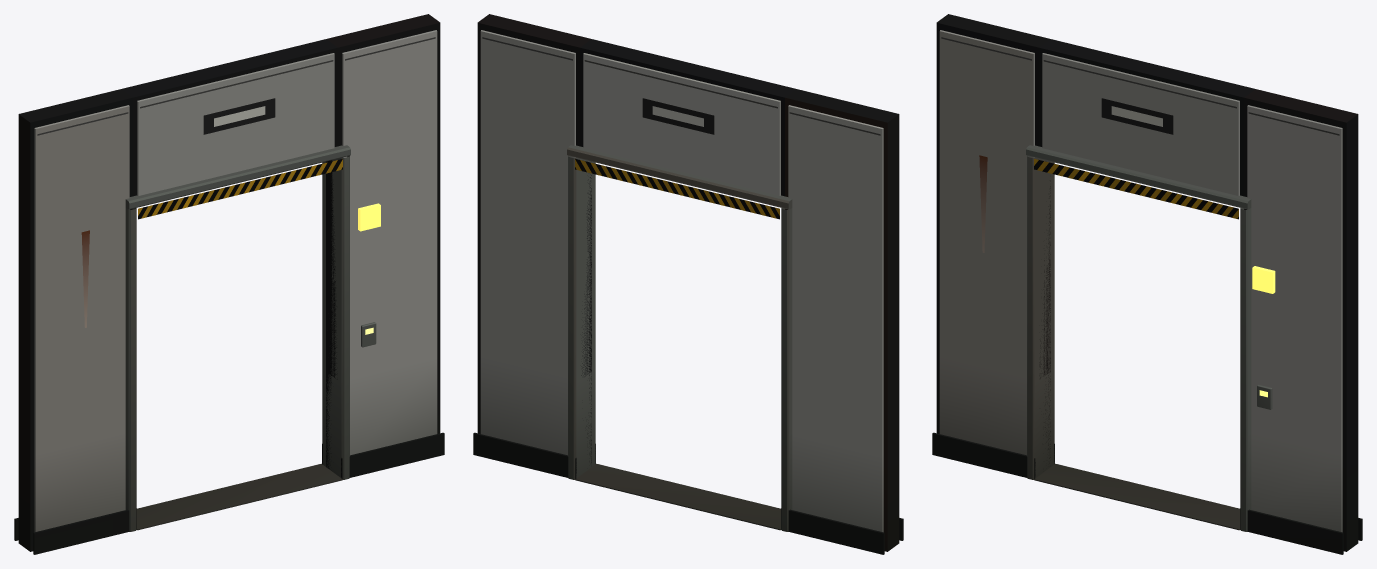
Rendered from kit_doorway.glb.
3 views of the same model, side by side, from view 1: azimuth 30°, elevation 25°; view 2: azimuth 150°, elevation 25°; view 3: azimuth 330°, elevation 25° (orthographic).
Visible parts, largest first — view 1: Mesh; view 2: Mesh; view 3: Mesh.
Part boxes in pixels (box(x1,y1,x2,y2)): Mesh: box(14, 14, 444, 554); Mesh: box(473, 14, 903, 554); Mesh: box(932, 14, 1362, 554).
Size of the model in its own units: 4 by 4 by 0.407.
